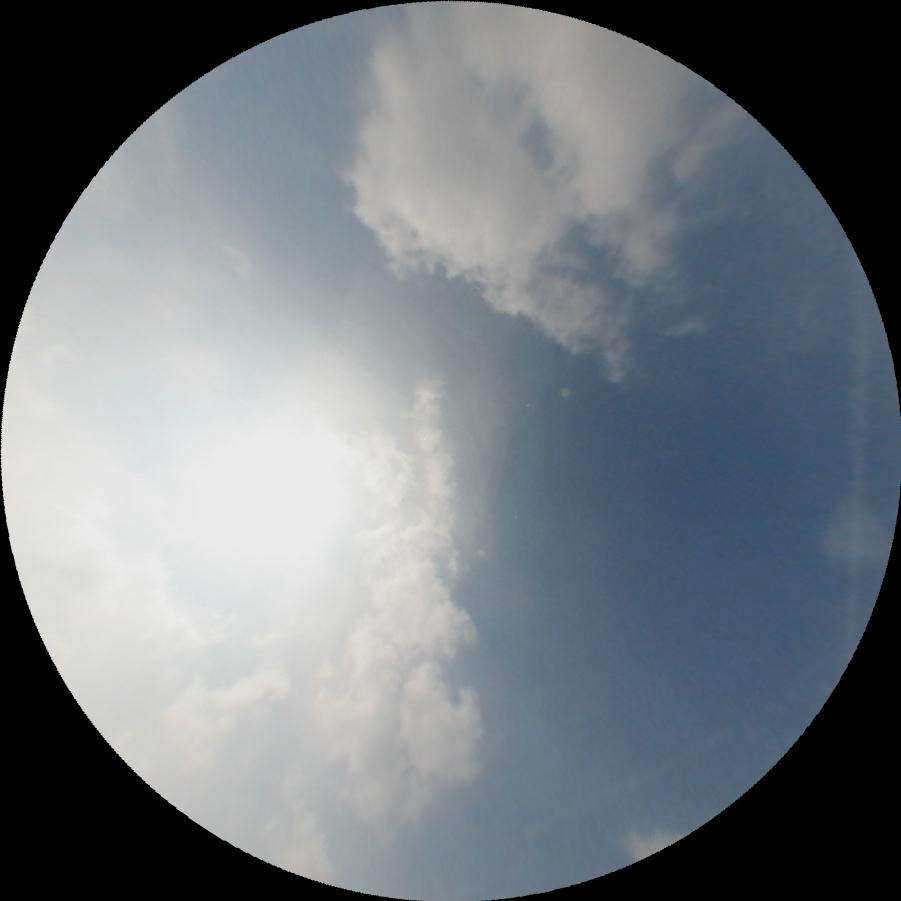contrail old: (834, 269, 876, 663)
sun: (151, 400, 366, 622)
unknow: (519, 723, 740, 844)
